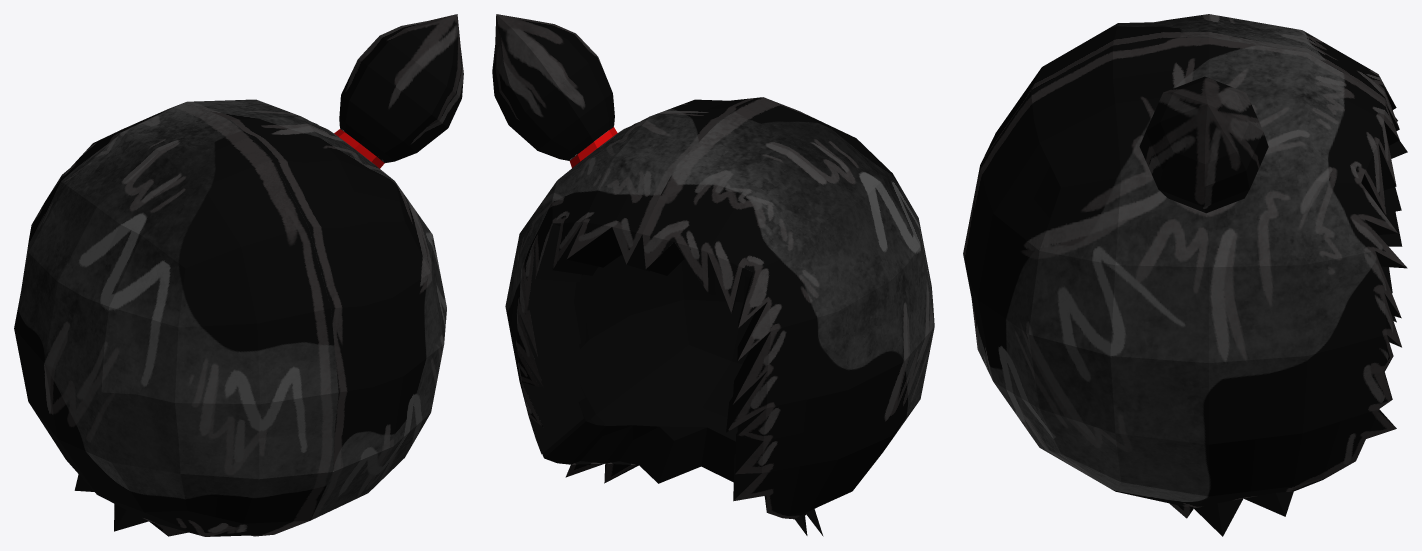
File: hair_0.fbx
The picture shows the model from 3 angles, left to right: view 1: azimuth 30°, elevation 25°; view 2: azimuth 150°, elevation 25°; view 3: azimuth 270°, elevation 25°; orthographic projection. The views are drawn at different scales.
Parts seen in each view (by area): view 1: Hair5; view 2: Hair5; view 3: Hair5.
Part boxes in pixels (<box>): Hair5: <box>14,14,463,536</box>; Hair5: <box>492,14,934,536</box>; Hair5: <box>963,14,1407,536</box>.
Bounding box in the file's own units: 176 × 182 × 146.
